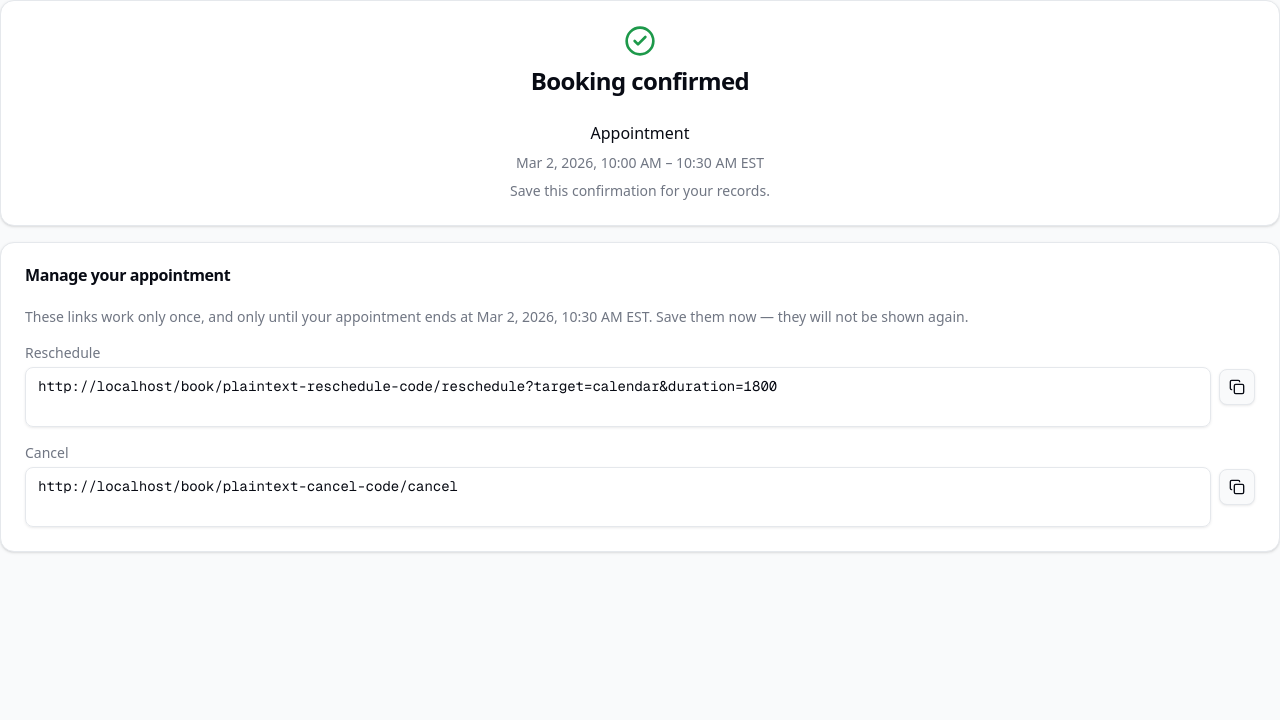
Test: BookingConfirmation › renders an inline failure message when the clipboard write rejects, without touching the other link
Click the button with test id "copy-reschedule-link-button" at (1237, 387), box x1=1219 y1=369 x2=1255 y2=405
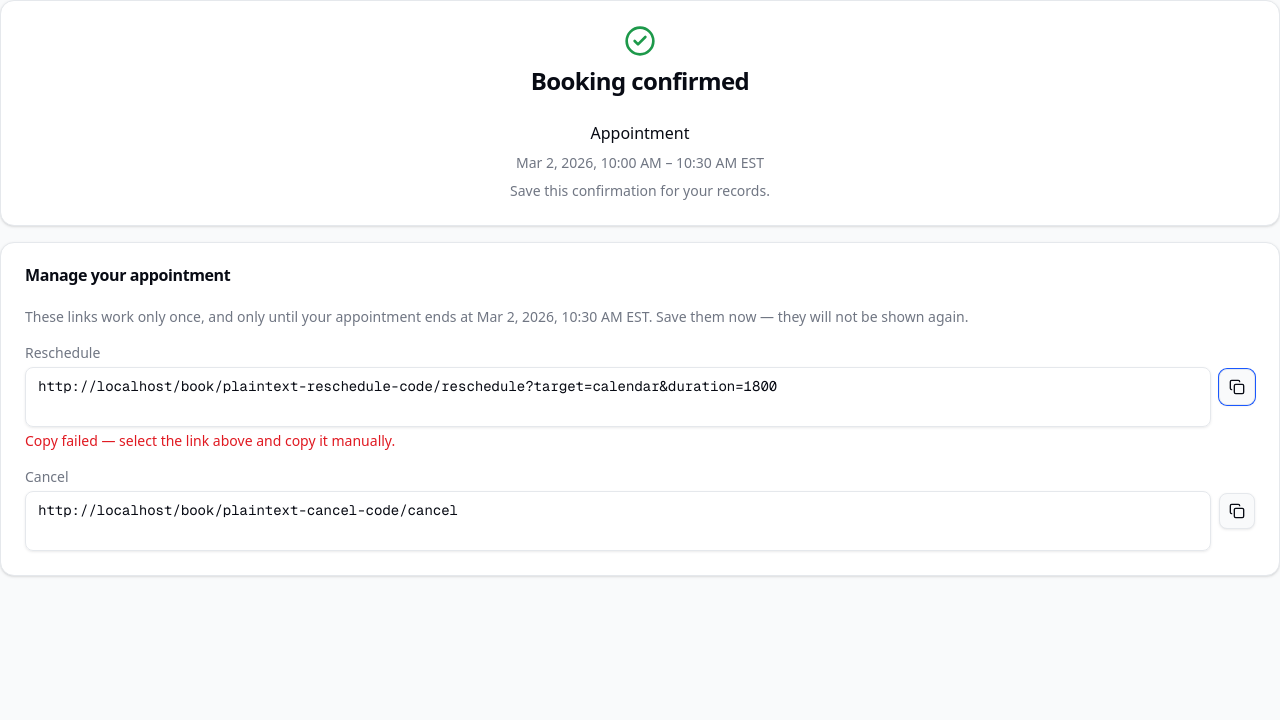
Check: the text with test id "reschedule-copy-failed" shows "Copy failed", box x1=25 y1=431 x2=395 y2=450
